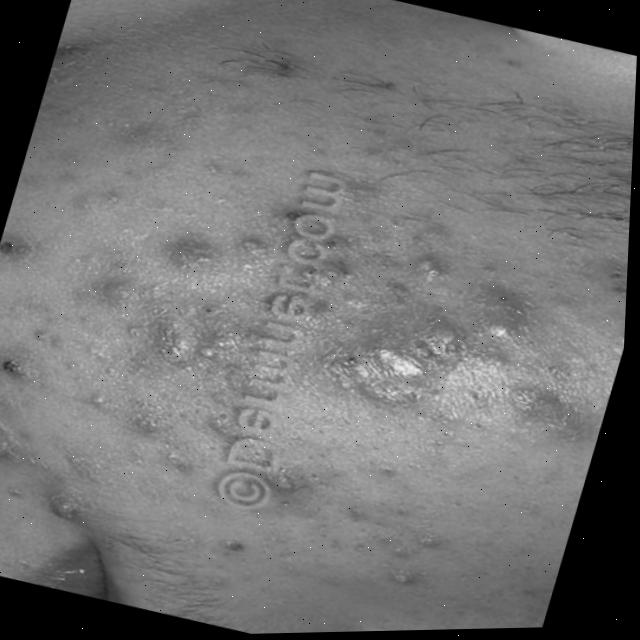Rosacea: (0, 57, 620, 601)
